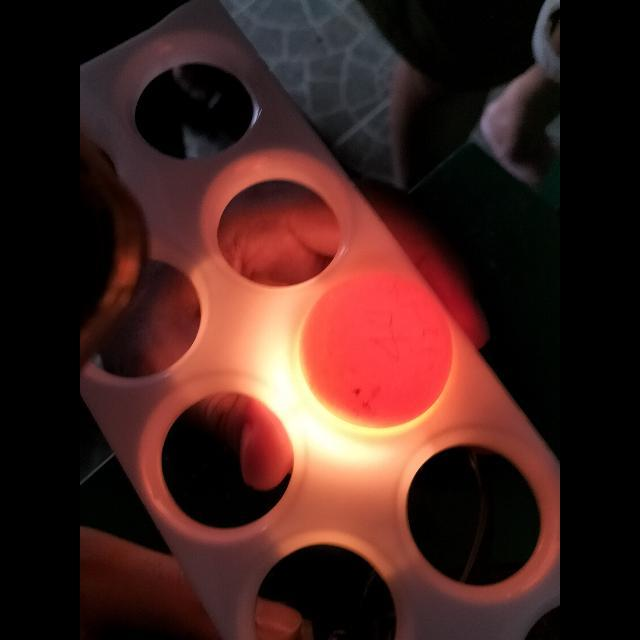Infertile: (295, 266, 451, 424)
